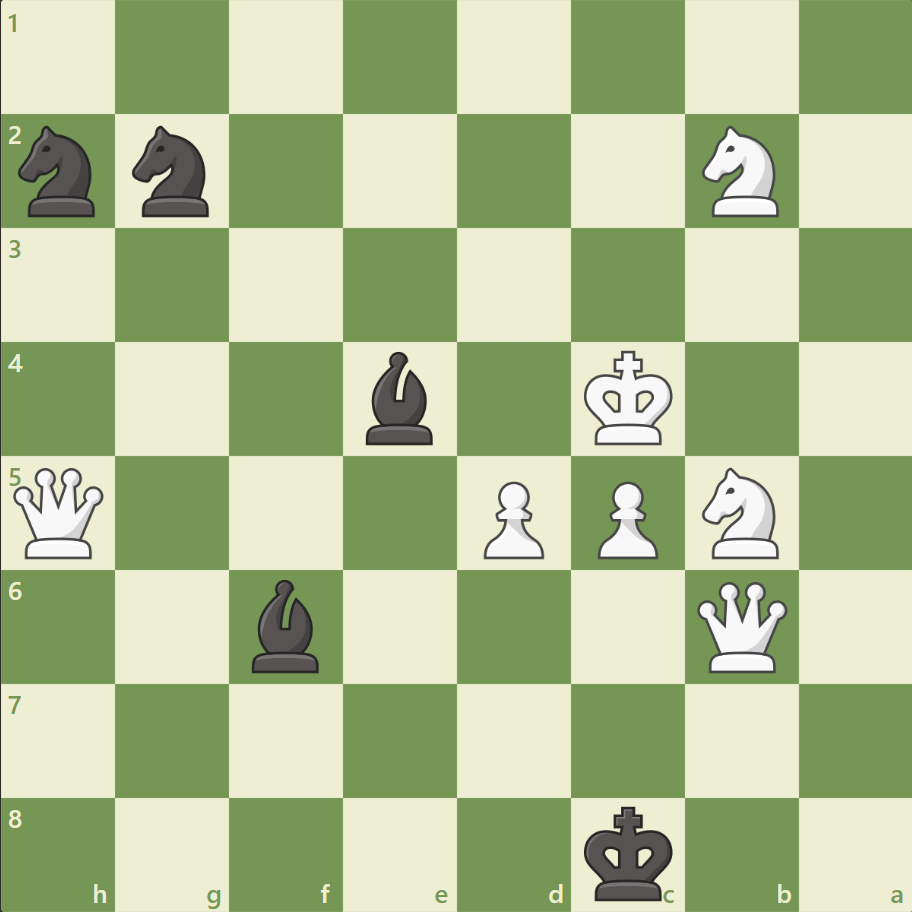K: (579, 344, 679, 452)
N: (692, 461, 789, 564), (692, 121, 789, 223)
P: (474, 473, 549, 564), (588, 473, 662, 564)
Q: (691, 576, 790, 676), (10, 463, 109, 562)
b: (244, 574, 328, 676), (358, 347, 442, 449)
k: (579, 798, 679, 906)
n: (124, 121, 222, 223), (11, 121, 108, 223)
